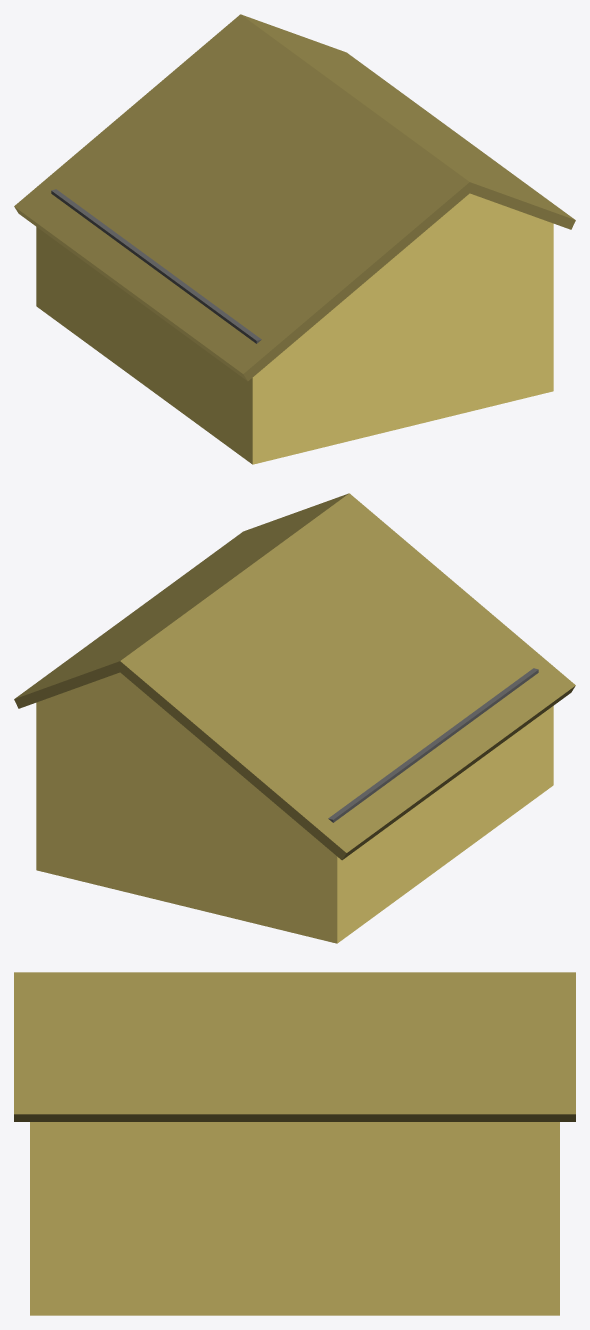
File: result.glb
The picture shows the model from 3 angles, top to bottom: view 1: azimuth 30°, elevation 25°; view 2: azimuth 150°, elevation 25°; view 3: azimuth 270°, elevation 25°; orthographic projection. The views are drawn at different scales.
Visible parts, largest first — view 1: e60b4b60-17df-4d3c-b713-edc3ee07b16f__undefined (×2), d4c5cdfb-781f-401d-b6ea-4e686718fdac__undefined, 3a4fc06d-3dc6-43a7-9566-3cadc0c13993__Box; view 2: e60b4b60-17df-4d3c-b713-edc3ee07b16f__undefined (×2), d4c5cdfb-781f-401d-b6ea-4e686718fdac__undefined, 3a4fc06d-3dc6-43a7-9566-3cadc0c13993__Box; view 3: d4c5cdfb-781f-401d-b6ea-4e686718fdac__undefined, e60b4b60-17df-4d3c-b713-edc3ee07b16f__undefined.
Part boxes in pixels (x1,y1,x2,y2): e60b4b60-17df-4d3c-b713-edc3ee07b16f__undefined (×2): (14,14,575,381); d4c5cdfb-781f-401d-b6ea-4e686718fdac__undefined: (36,193,553,464); 3a4fc06d-3dc6-43a7-9566-3cadc0c13993__Box: (51,189,261,343); e60b4b60-17df-4d3c-b713-edc3ee07b16f__undefined (×2): (14,493,575,860); d4c5cdfb-781f-401d-b6ea-4e686718fdac__undefined: (36,672,553,943); 3a4fc06d-3dc6-43a7-9566-3cadc0c13993__Box: (328,668,538,822); d4c5cdfb-781f-401d-b6ea-4e686718fdac__undefined: (30,1122,559,1315); e60b4b60-17df-4d3c-b713-edc3ee07b16f__undefined: (14,972,575,1121).
Size of the model in its own units: 888 by 602 by 1060.
